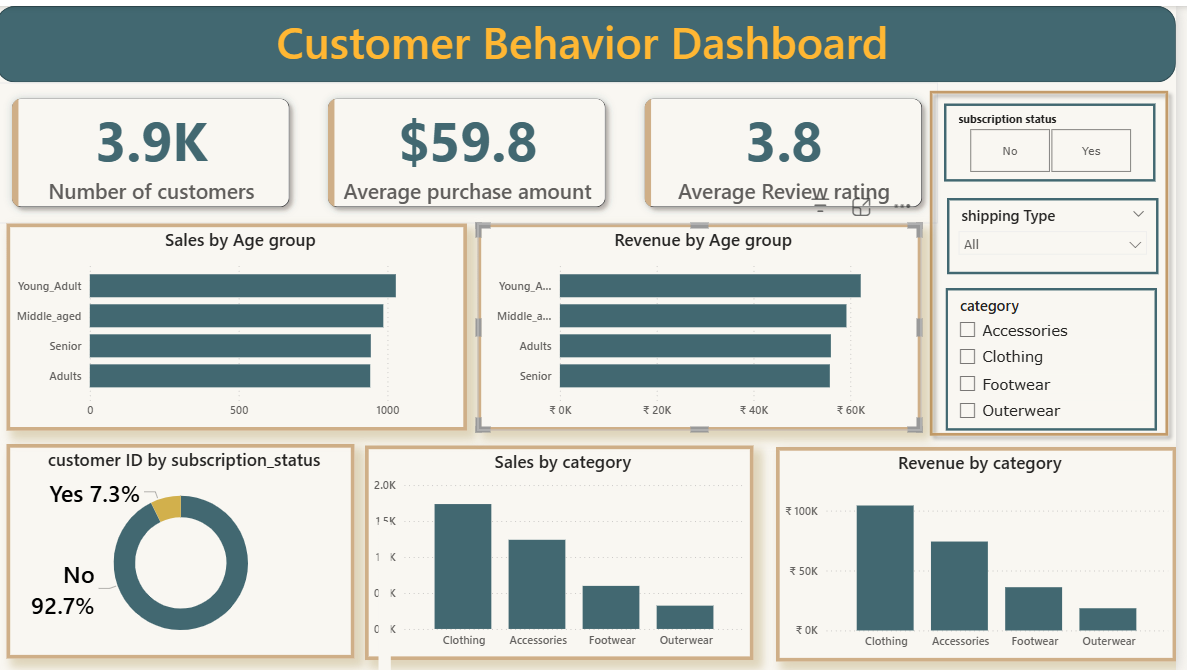

Layout of this report page (visuals, bound fields, positions):
{"tool":"powerbi","page":{"name":"Page 1","canvas":[1280,720],"ordinal":0},"visuals":[{"type":"cardVisual","fields":{"Data":["public customer.Number of customers","public customer.Average purchase amount","public customer.Average Review rating"]},"box":[0,83,1021.5,152.9],"z":0},{"type":"shape","box":[0,0,1279.4,82.8],"z":1000},{"type":"textbox","box":[37.4,0,1197.1,83],"z":2000},{"type":"donutChart","title":"customer ID by subscription_status","fields":{"Category":["public customer.subscription_status"],"Y":["Sum(public customer.customer_id)"]},"box":[11.4,475,377.4,232.6],"z":3000},{"type":"clusteredColumnChart","title":"Revenue by category","fields":{"Category":["public customer.category"],"Y":["Sum(public customer.purchase_amount)"]},"box":[845.8,478.2,434.3,232.6],"z":4000},{"type":"clusteredColumnChart","title":"Sales by category","fields":{"Category":["public customer.category"],"Y":["CountNonNull(public customer.customer_id)"]},"box":[400.1,476.6,421.3,232.6],"z":5000},{"type":"textbox","box":[414.8,559.5,13,161],"z":6000},{"type":"shape","box":[1083.3,84.6,174,624.6],"z":7000},{"type":"shape","box":[1003.6,83,276.5,392],"z":8000},{"type":"slicer","fields":{"Values":["public customer.subscription_status"]},"box":[1028,105.7,229.3,84.6],"z":9000},{"type":"slicer","fields":{"Values":["public customer.category"]},"box":[1029.6,305.8,229.3,154.5],"z":11000},{"type":"slicer","fields":{"Values":["public customer.shipping_type"]},"box":[1031.2,208.2,229.3,83],"z":12000},{"type":"clusteredBarChart","title":"Revenue by Age group","fields":{"Category":["public customer.age_group"],"Y":["Sum(public customer.purchase_amount)"]},"box":[522.1,235.8,481.5,224.5],"z":13000},{"type":"clusteredBarChart","title":"Sales by Age group","fields":{"Category":["public customer.age_group"],"Y":["public customer.Number of customers"]},"box":[11.4,235.8,499.3,224.5],"z":13001}]}

Visuals, with their boxes in screenshot pixels (x1, y1, x2, y2), scaled from the page's 1280x720 canvas onto the 1187x670 screenshot:
cardVisual - public customer.Number of customers x public customer.Average purchase amount: left=0, top=77, right=947, bottom=220
shape: left=0, top=0, right=1186, bottom=77
textbox: left=35, top=0, right=1145, bottom=77
"customer ID by subscription_status" donutChart: left=11, top=442, right=361, bottom=658
"Revenue by category" clusteredColumnChart: left=784, top=445, right=1186, bottom=661
"Sales by category" clusteredColumnChart: left=371, top=444, right=762, bottom=660
textbox: left=385, top=521, right=397, bottom=669
shape: left=1005, top=79, right=1166, bottom=660
shape: left=931, top=77, right=1186, bottom=442
slicer - public customer.subscription_status: left=953, top=98, right=1166, bottom=177
slicer - public customer.category: left=955, top=285, right=1167, bottom=428
slicer - public customer.shipping_type: left=956, top=194, right=1169, bottom=271
"Revenue by Age group" clusteredBarChart: left=484, top=219, right=931, bottom=428
"Sales by Age group" clusteredBarChart: left=11, top=219, right=474, bottom=428
